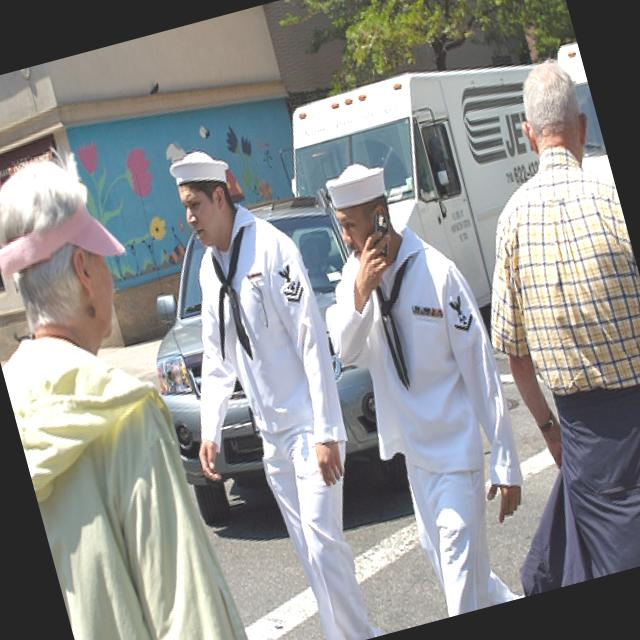Vehicle: (122, 184, 408, 536), (269, 42, 592, 348)
